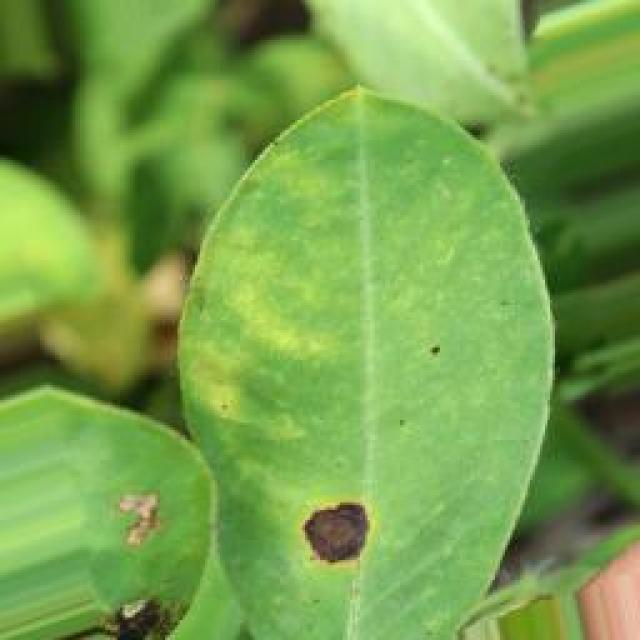Yellowish: (75, 442, 187, 640), (266, 429, 400, 586), (400, 320, 464, 398), (177, 372, 245, 435)
